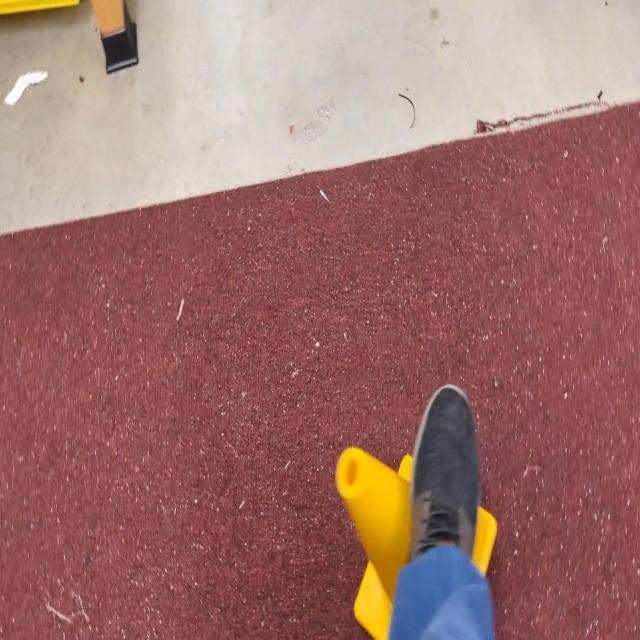frc_cone: (336, 446, 496, 640)
